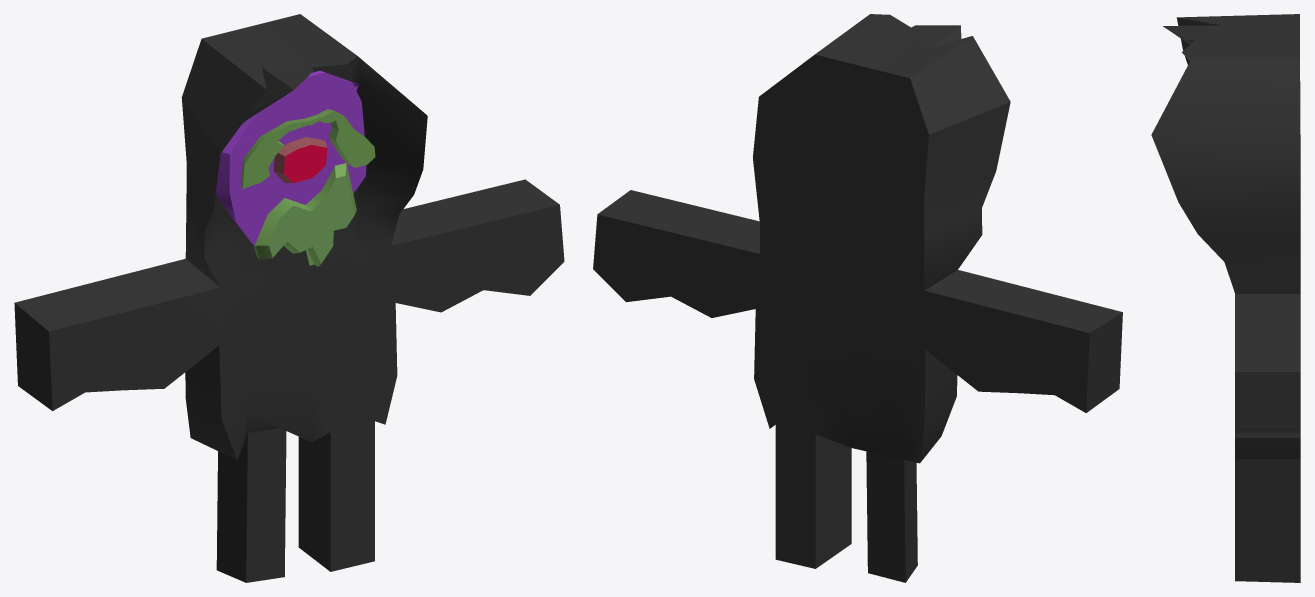
Rendered from enemy character 2.fbx.
The picture shows the model from 3 angles, left to right: view 1: azimuth 30°, elevation 25°; view 2: azimuth 150°, elevation 25°; view 3: azimuth 270°, elevation 25°; orthographic projection. The views are drawn at different scales.
Visible parts, largest first — view 1: pCube1; view 2: pCube1; view 3: pCube1.
Part boxes in pixels (x1,y1,x2,y2): pCube1: (14,14,564,582); pCube1: (593,14,1122,582); pCube1: (1151,14,1300,582).
Size of the model in its own units: 7.08 by 7 by 1.88.
